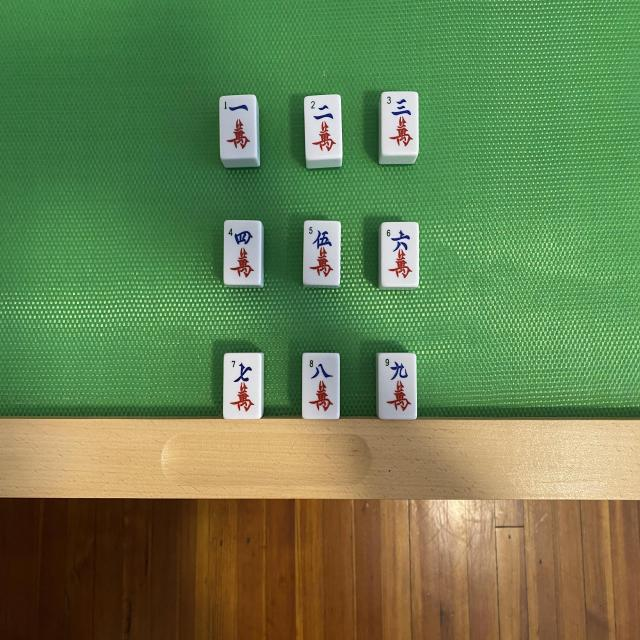sc1: (220, 96, 256, 157)
sc2: (304, 98, 341, 156)
sc3: (382, 93, 418, 154)
sc4: (224, 221, 260, 283)
sc5: (304, 222, 340, 284)
sc6: (382, 223, 420, 285)
sc7: (224, 354, 260, 418)
sc8: (302, 353, 340, 419)
sc9: (378, 354, 416, 418)
